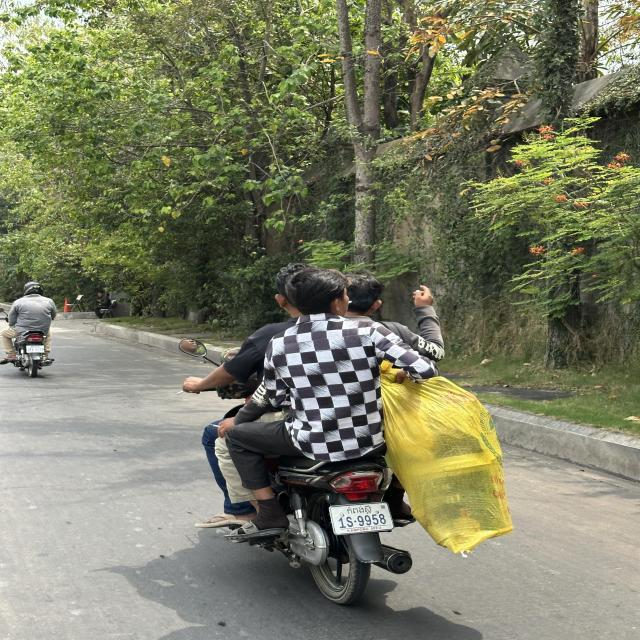Kampong_Speu: (346, 505, 374, 515)
